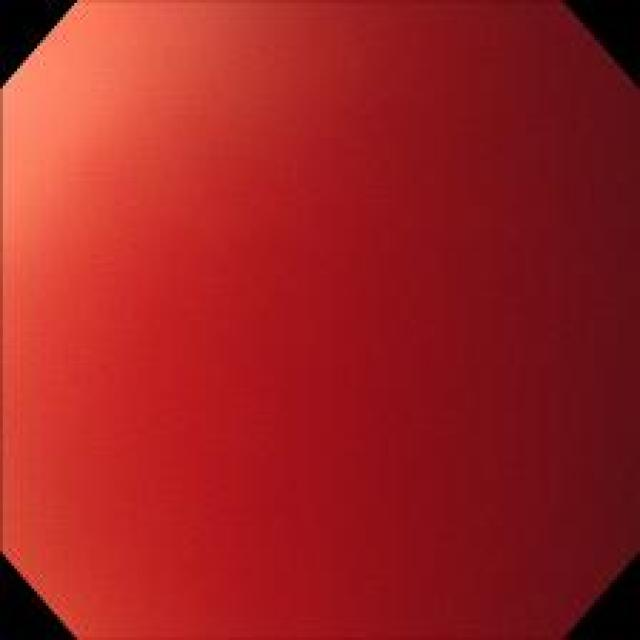color misalignment: (9, 16, 625, 618)
